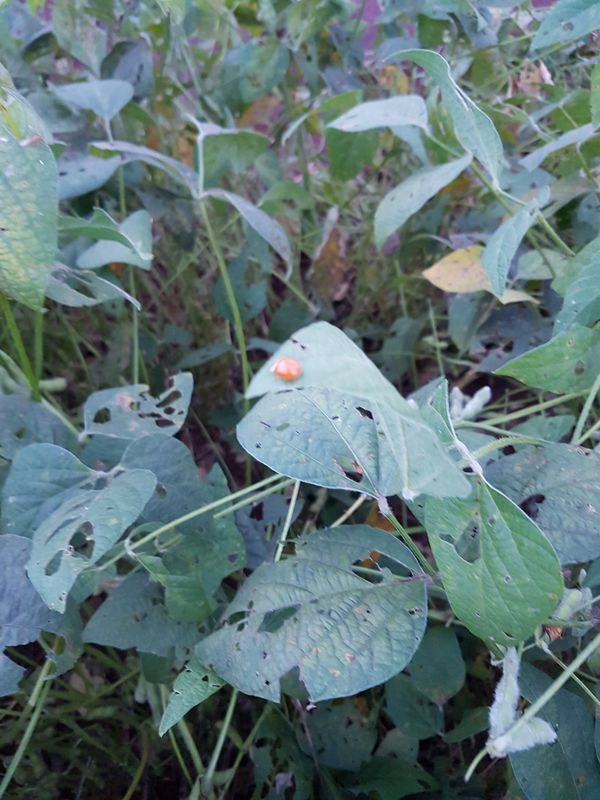Coccinellidae: (263, 350, 313, 392)
